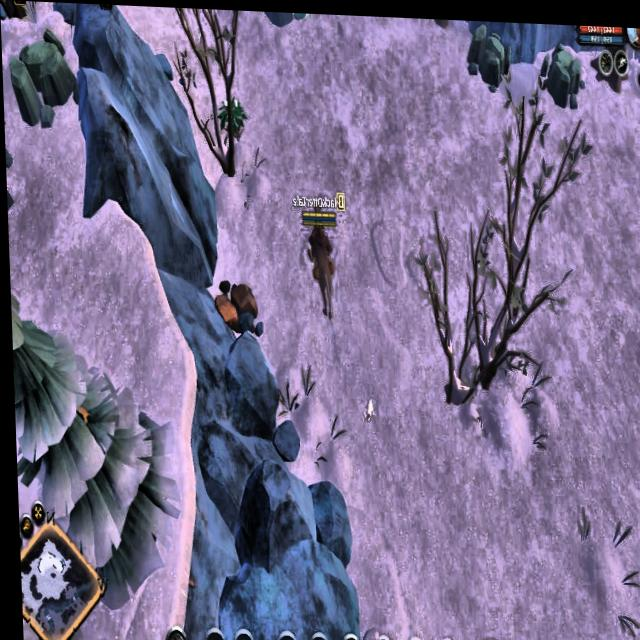limestone: (209, 274, 256, 336)
sandstone: (7, 25, 74, 140), (463, 17, 515, 90), (539, 34, 586, 111)
